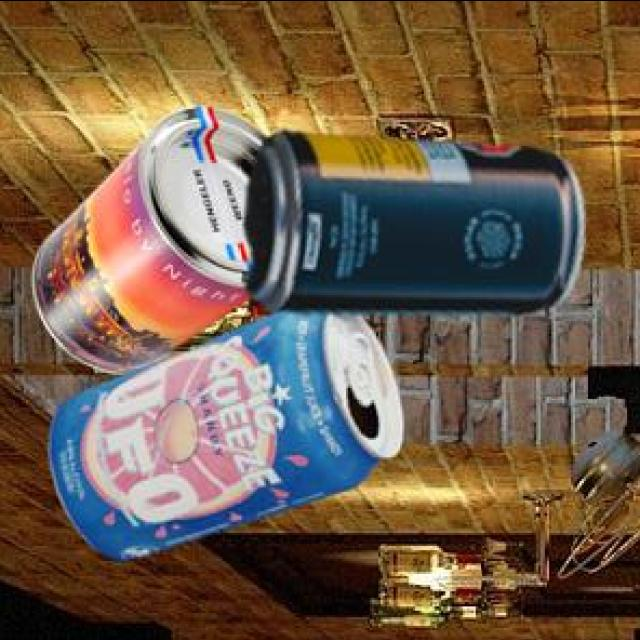logam: (46, 312, 401, 561), (29, 109, 265, 375), (241, 133, 581, 317)
